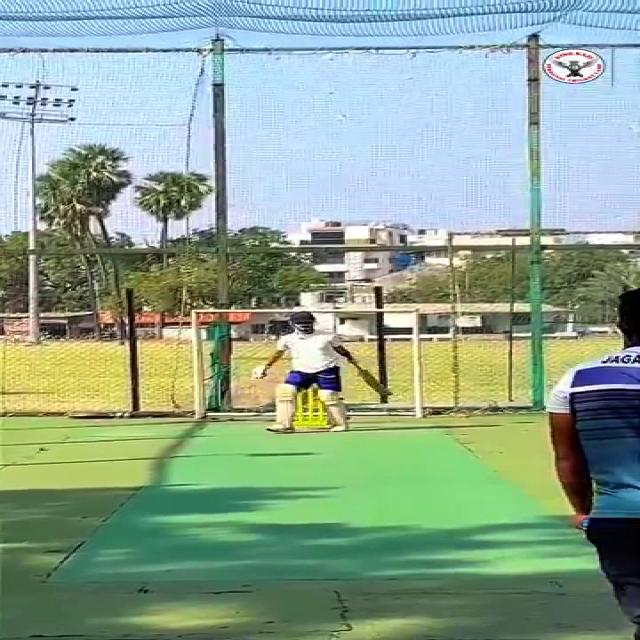batsman: (249, 306, 395, 434)
